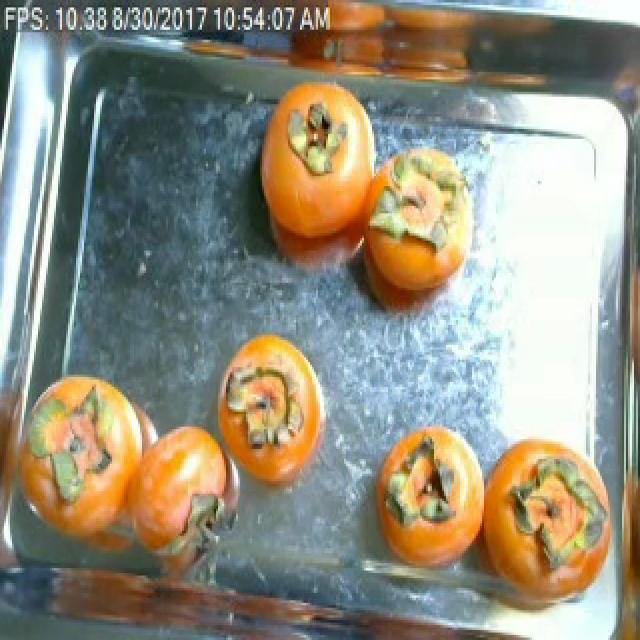Fruit: (244, 72, 380, 241), (212, 320, 336, 466), (26, 362, 156, 491), (374, 414, 494, 534), (344, 214, 466, 332)
